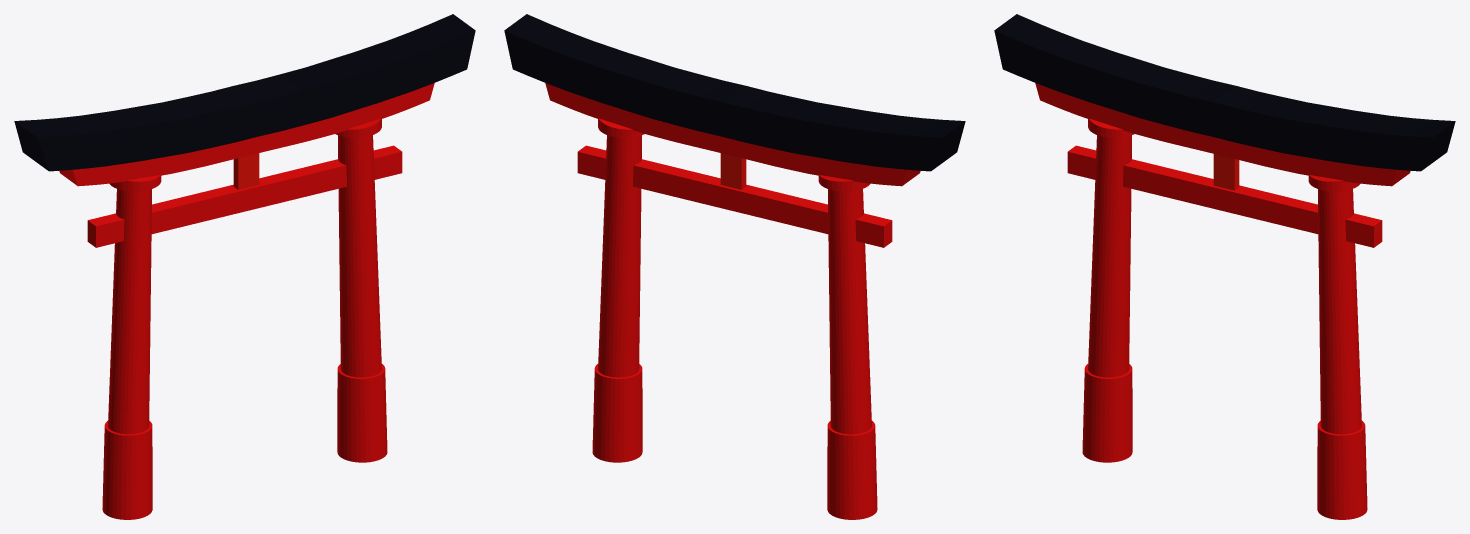
Rendered from toriii.gltf.
3 views of the same model, side by side, from view 1: azimuth 30°, elevation 25°; view 2: azimuth 150°, elevation 25°; view 3: azimuth 330°, elevation 25° (orthographic).
Visible parts, largest first — view 1: Cylinder, Cube.003, Cube, Cube.002, Cube.001; view 2: Cylinder, Cube.003, Cube, Cube.002, Cube.001; view 3: Cylinder, Cube.003, Cube, Cube.002, Cube.001.
Part boxes in pixels (<box>): Cylinder: <box>102,118,387,519</box>; Cube.003: <box>14,14,475,171</box>; Cube: <box>87,145,402,247</box>; Cube.002: <box>59,83,434,186</box>; Cube.001: <box>233,153,259,189</box>; Cylinder: <box>592,118,877,519</box>; Cube.003: <box>504,14,965,171</box>; Cube: <box>577,145,892,247</box>; Cube.002: <box>545,83,920,186</box>; Cube.001: <box>720,153,746,189</box>; Cylinder: <box>1082,118,1367,519</box>; Cube.003: <box>994,14,1455,171</box>; Cube: <box>1067,145,1382,247</box>; Cube.002: <box>1035,83,1410,186</box>; Cube.001: <box>1213,154,1239,190</box>.
Size of the model in its own units: 10.14 by 8.94 by 1.07.
